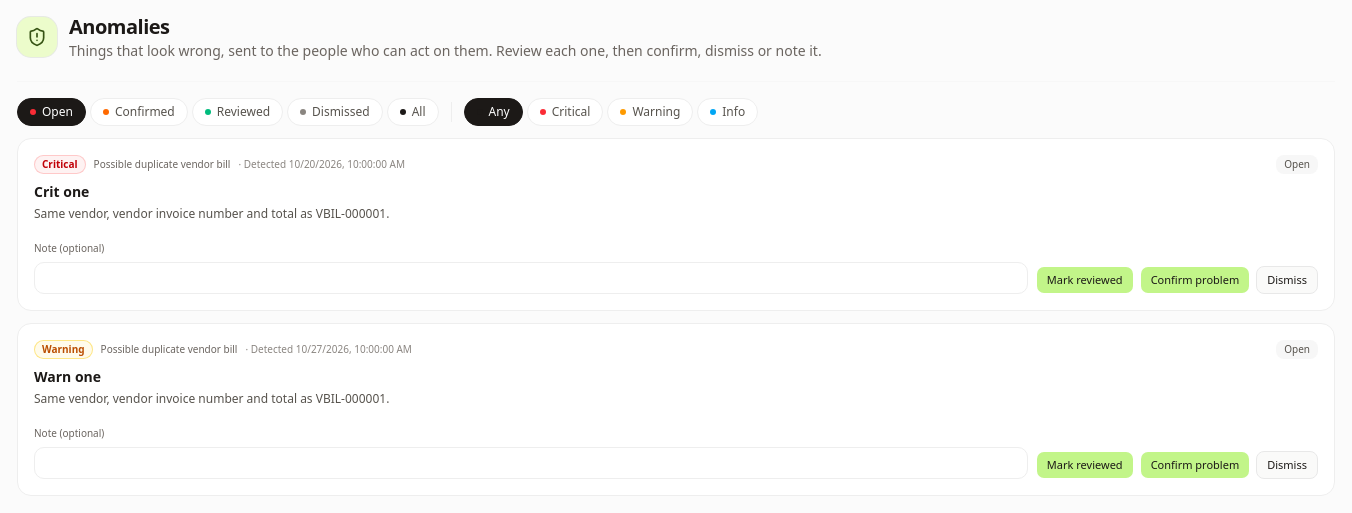
Scenario: AnomaliesPage › lists criticals first and narrows by severity chip
Expected: the heading "Crit one" is shown, [34,182,89,201]
What coordinates should you click on to do the following:
click the button "Warning"
I would click on:
 (650, 112)
Its box is [607,98,693,126].
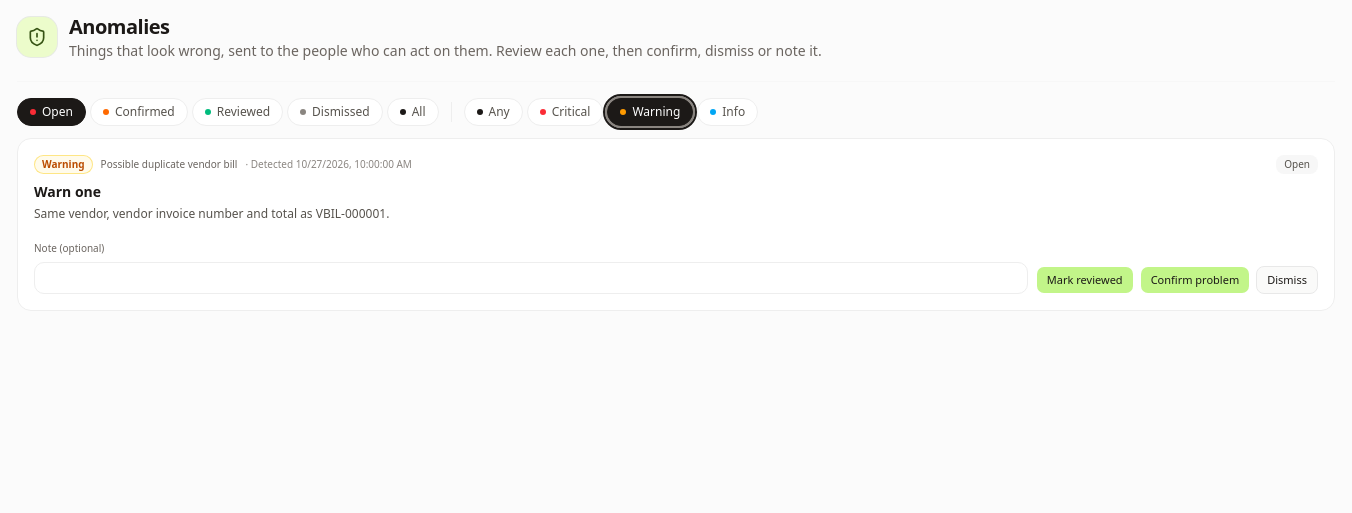
Expected: the heading "Warn one" is shown, [34,182,101,201]
Now the heading "Crit one" is gone
